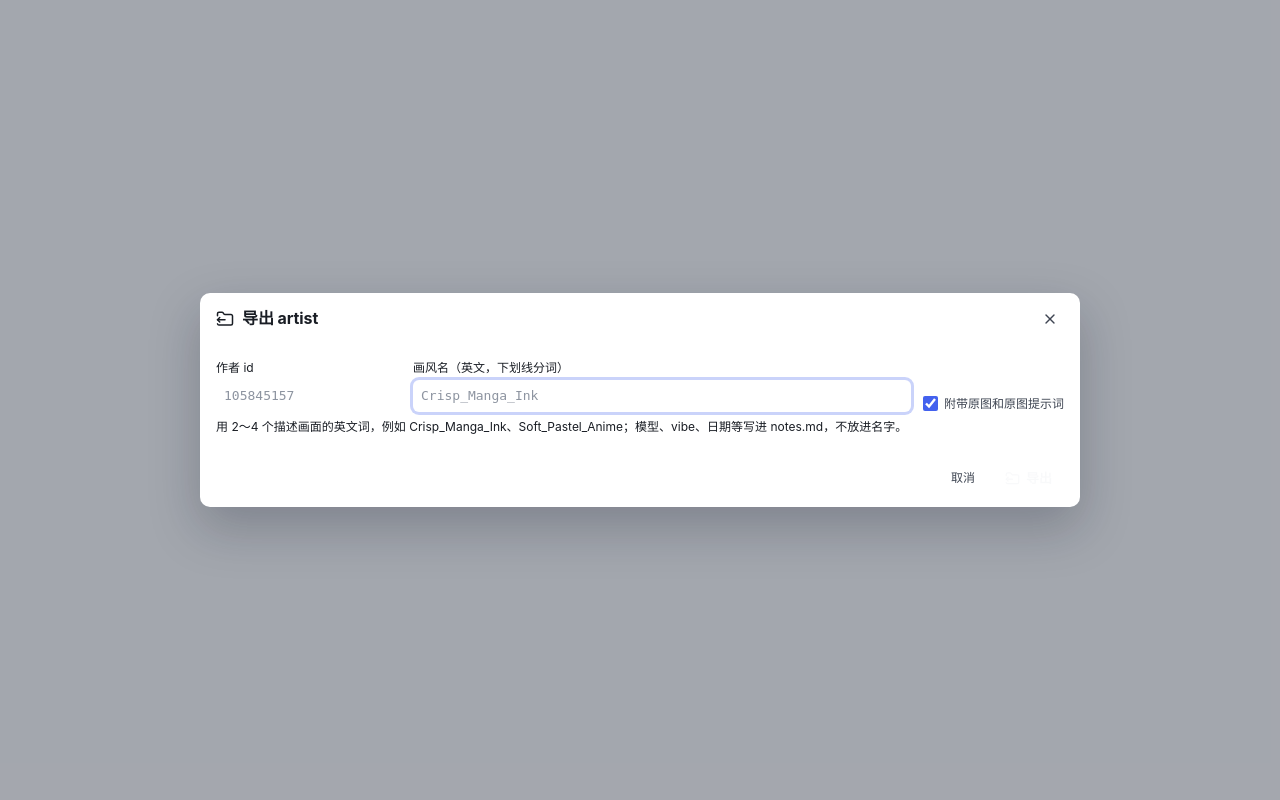
Test: ExportDialog › rejects names that are not english identifiers
Type "带 空格" into the field with placeholder "Crisp_Manga_Ink" at (662, 396), box [413,380,911,412]
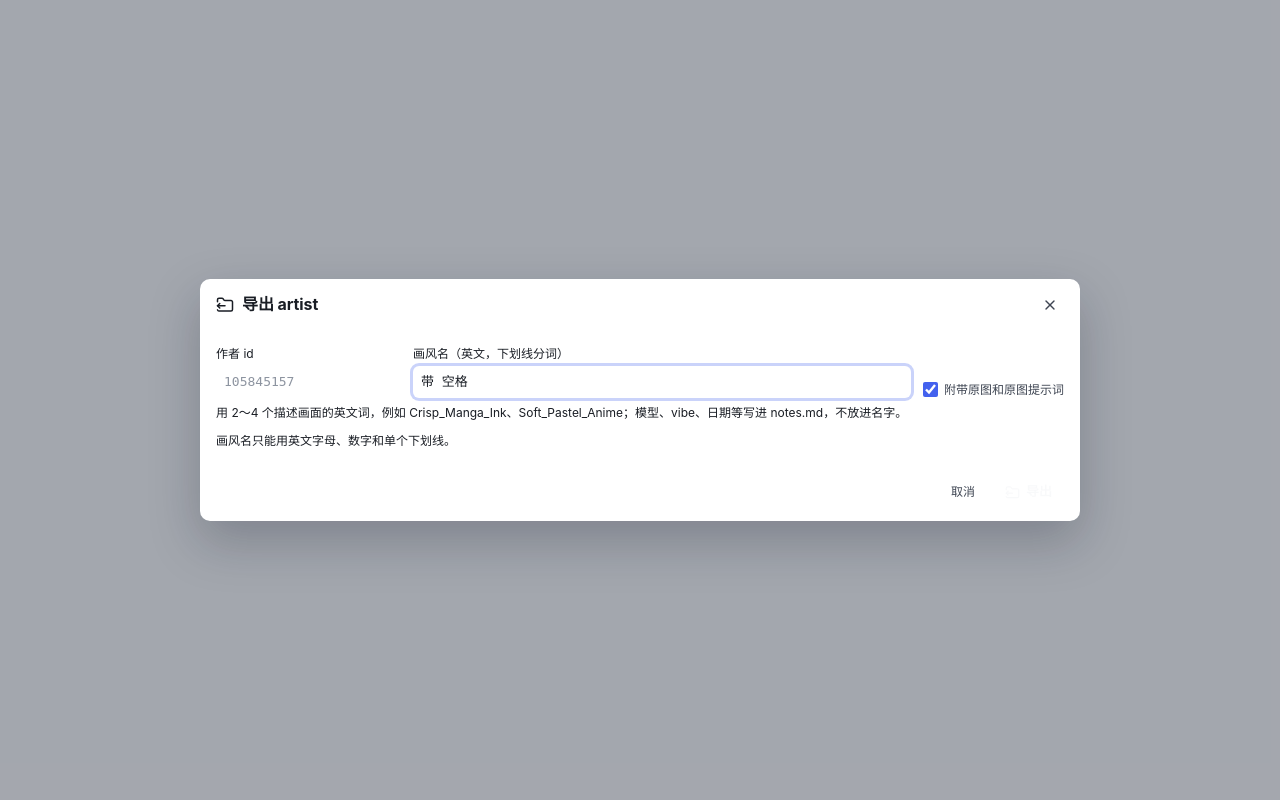
Expected: the text "画风名只能用英文字母、数字和单个下划线。" is shown, [216,433,456,448]
